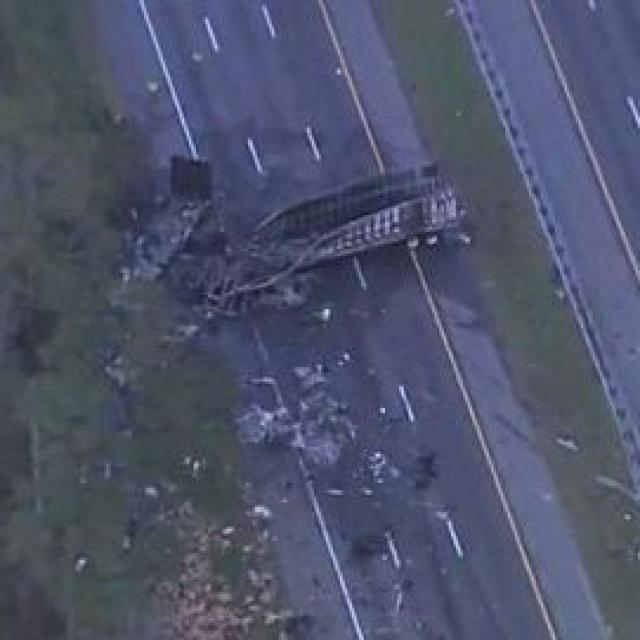traffic_incident: (156, 157, 458, 321)
